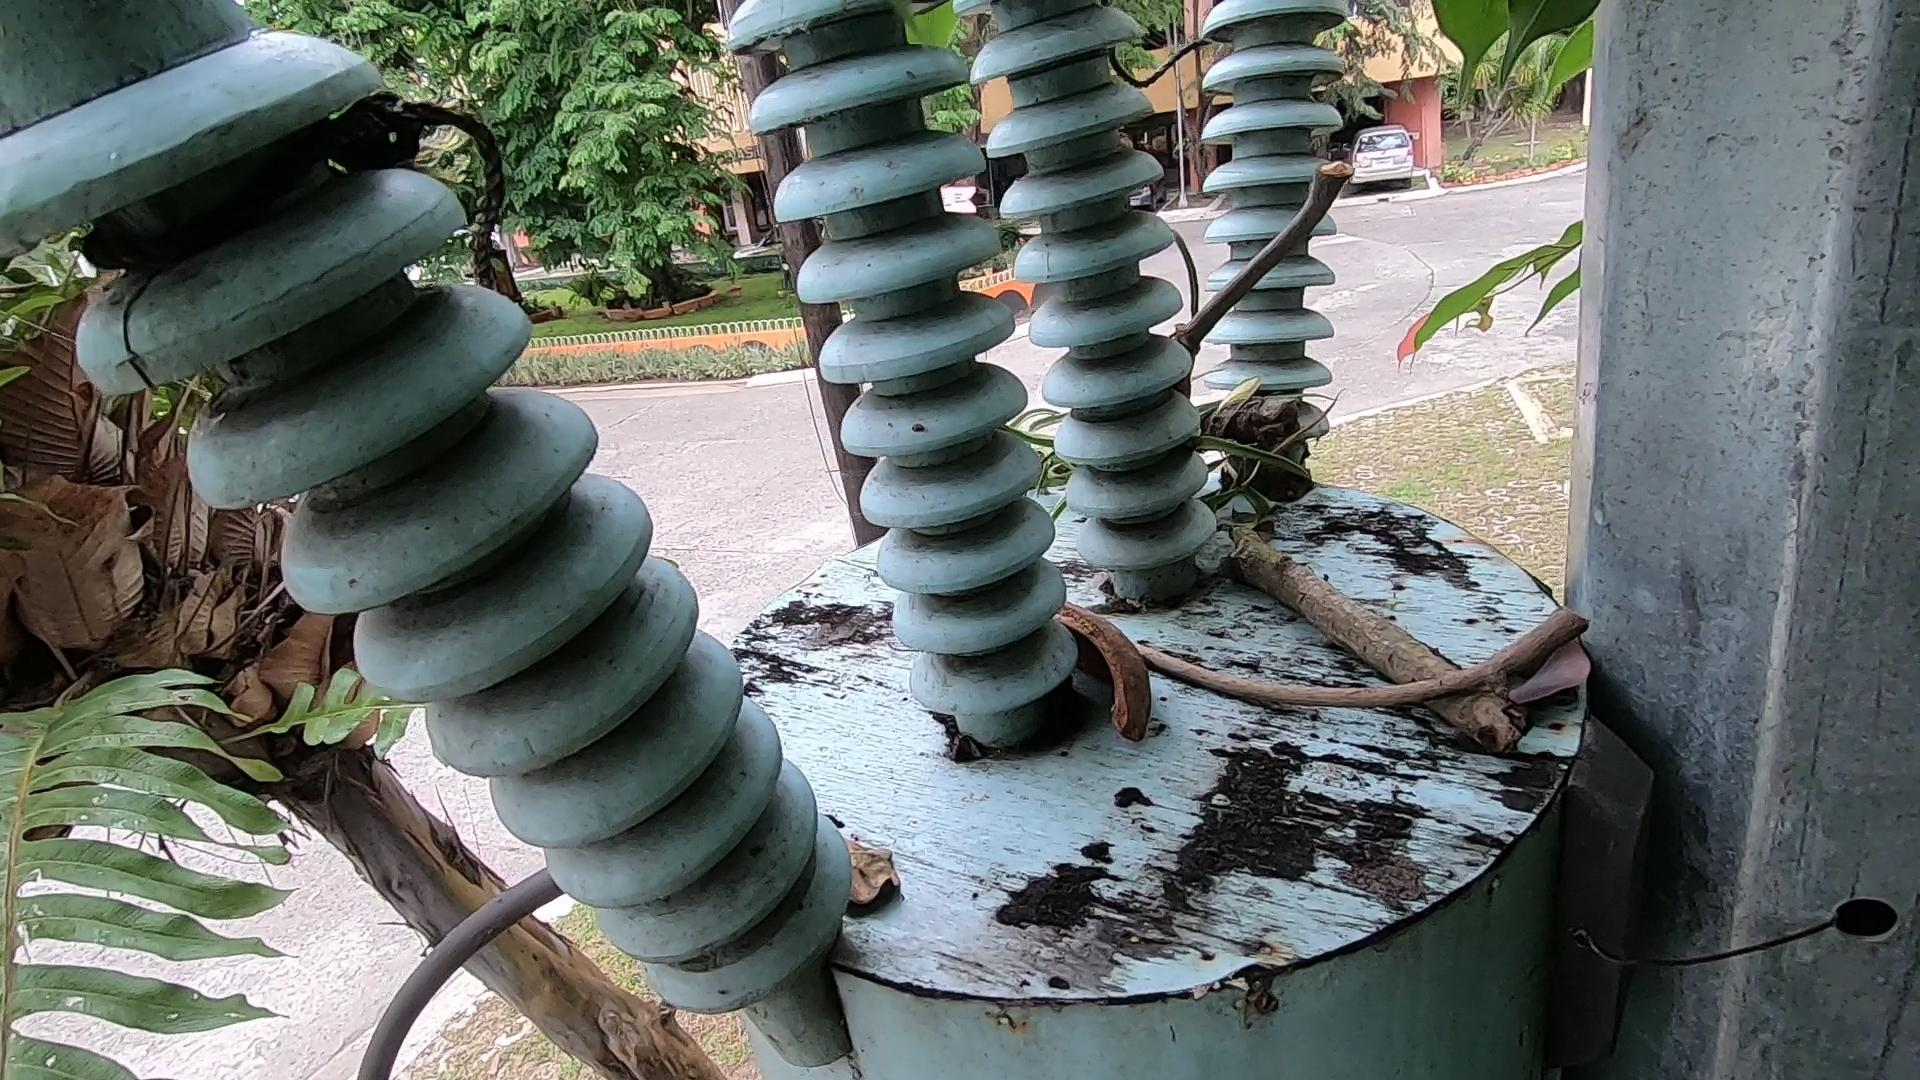branch with leaves: (1154, 324, 1615, 790)
leaf: (799, 828, 975, 938), (1531, 597, 1615, 723)
mahogany fruit: (1051, 571, 1160, 771)
tree branch: (1124, 109, 1445, 398), (1083, 593, 1601, 707)
